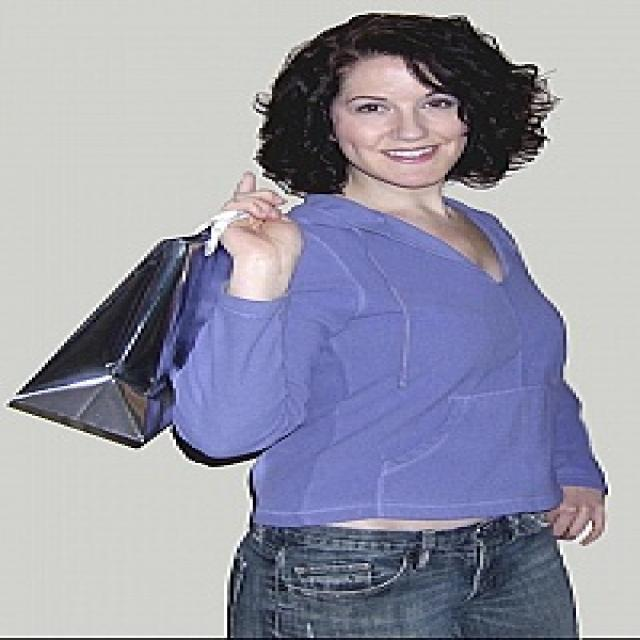Eyes: (336, 92, 458, 120)
